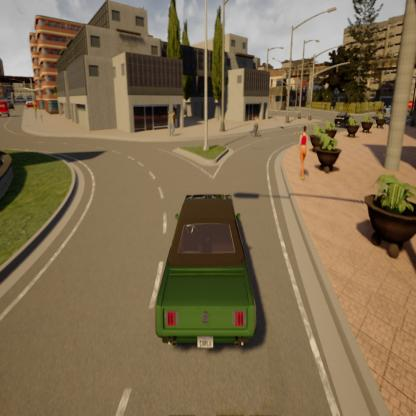Cars: (147, 157, 267, 387), (330, 104, 356, 132)
Pedestrian: (292, 117, 312, 186), (165, 102, 178, 143)
